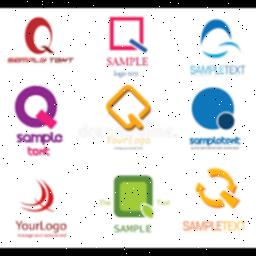q: (12, 80, 62, 134)
